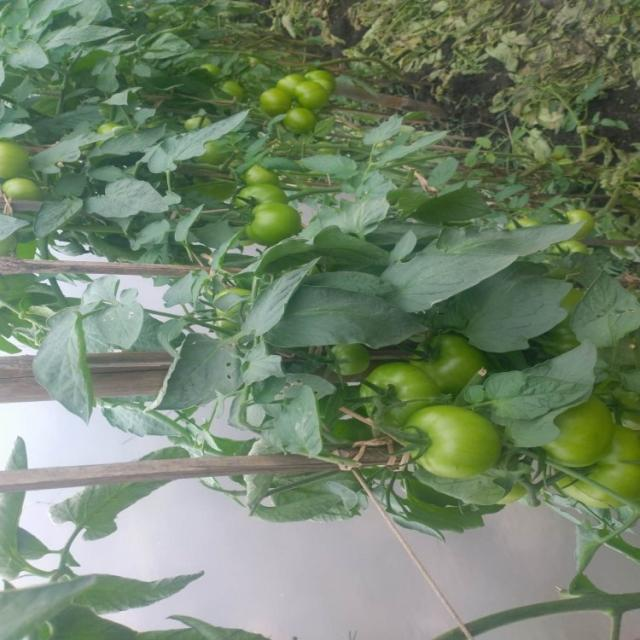tomato: (399, 398, 510, 487), (539, 377, 612, 480), (405, 319, 491, 405), (361, 348, 433, 423), (586, 412, 640, 511), (254, 203, 310, 252), (259, 60, 319, 101), (274, 94, 323, 141), (320, 329, 368, 376), (4, 127, 30, 191), (252, 80, 290, 123), (211, 69, 250, 108), (295, 60, 344, 91), (289, 70, 326, 111), (238, 181, 289, 210), (6, 167, 41, 203), (242, 159, 283, 187), (559, 207, 598, 234)
